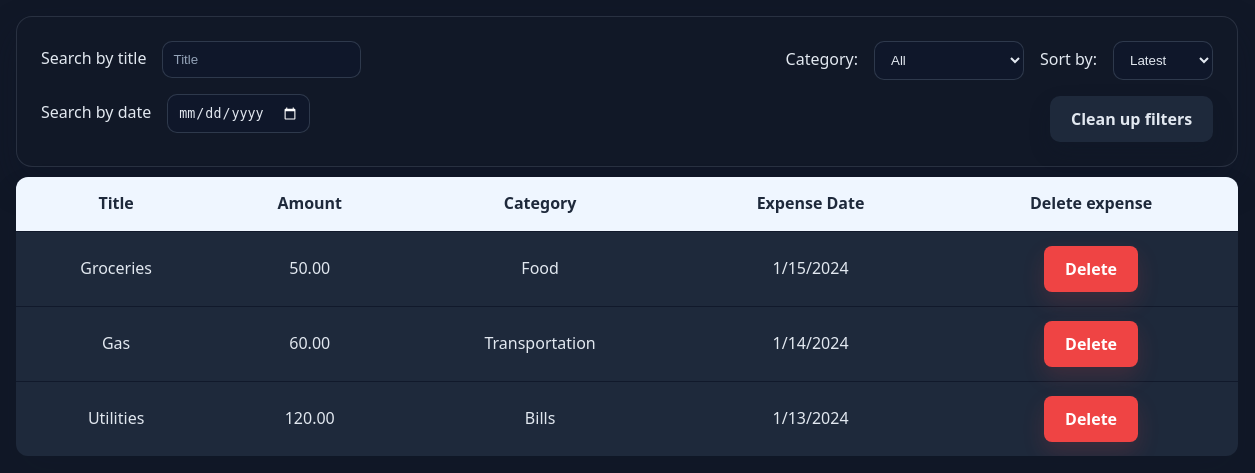
Scenario: ExpensesView Component › should search expenses by title
Type "gas" into the field with placeholder "Title" at {"x": 262, "y": 60}, box [162,41,362,78]
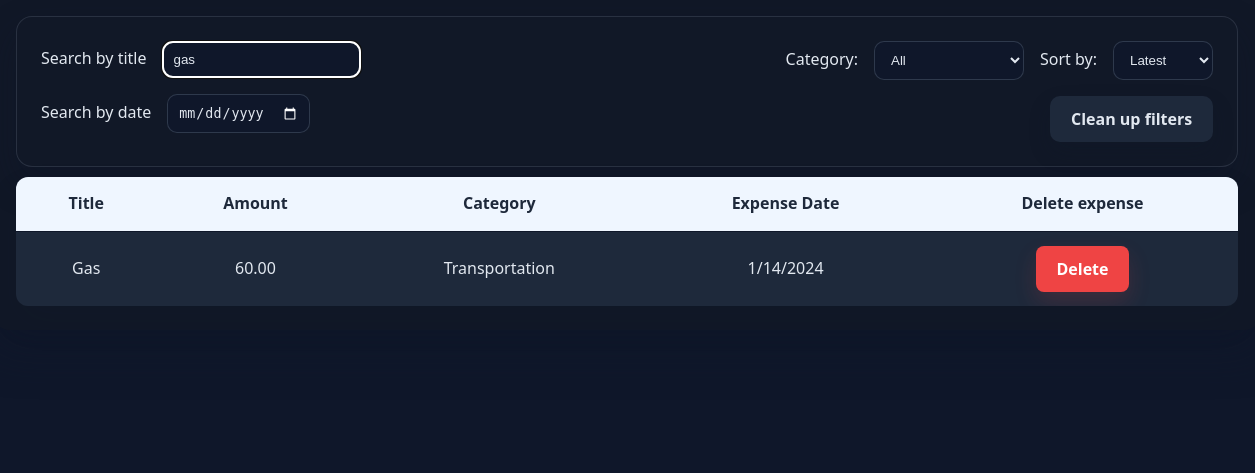
Expected: the number of rows is 2, [16,177,1238,231]; [16,231,1238,306]
